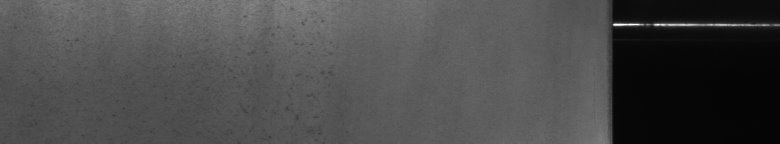ib: (222, 19, 333, 134)
